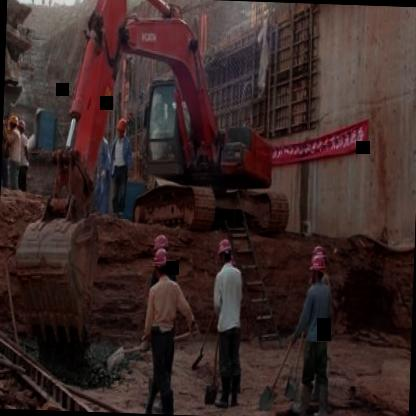helmet: (152, 246, 171, 280), (307, 256, 327, 288), (216, 235, 234, 266), (112, 117, 127, 141), (6, 110, 18, 134)
